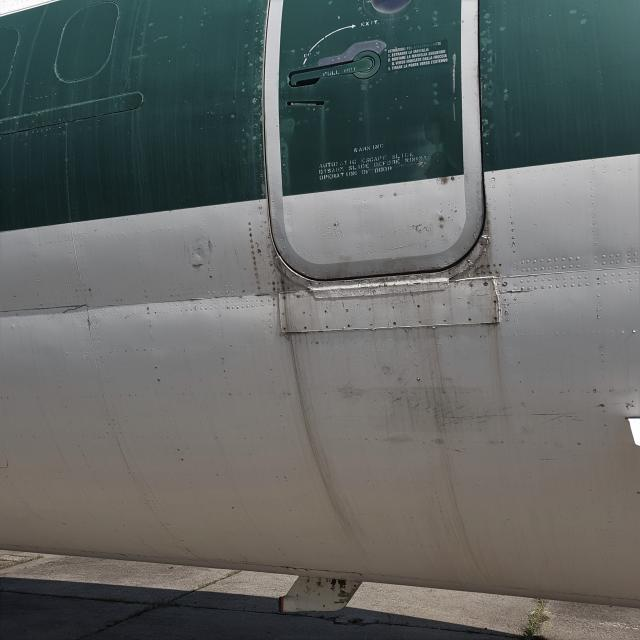crack: (61, 304, 95, 312)
